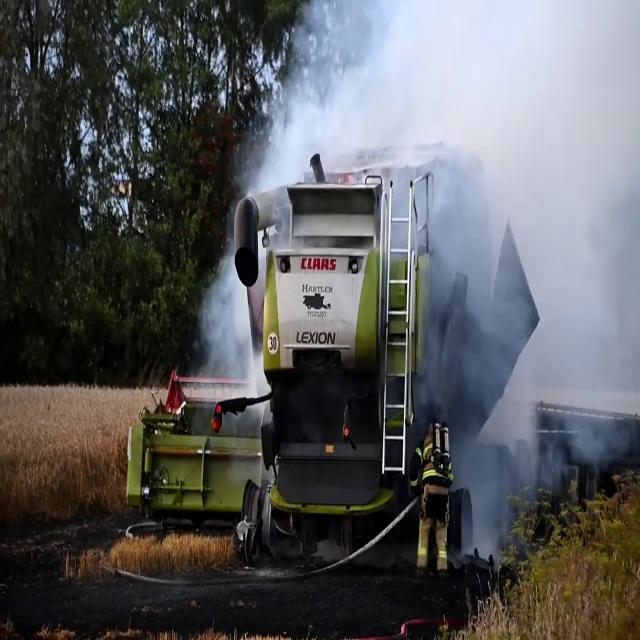Smoke: (417, 0, 640, 503), (246, 0, 470, 194), (193, 254, 264, 401)
